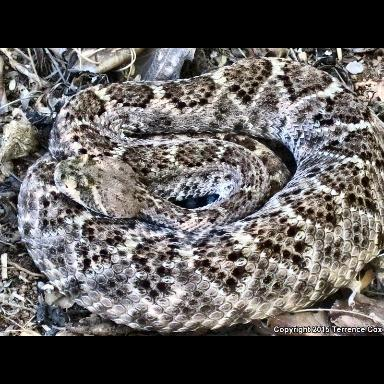snake: (29, 58, 384, 319)
